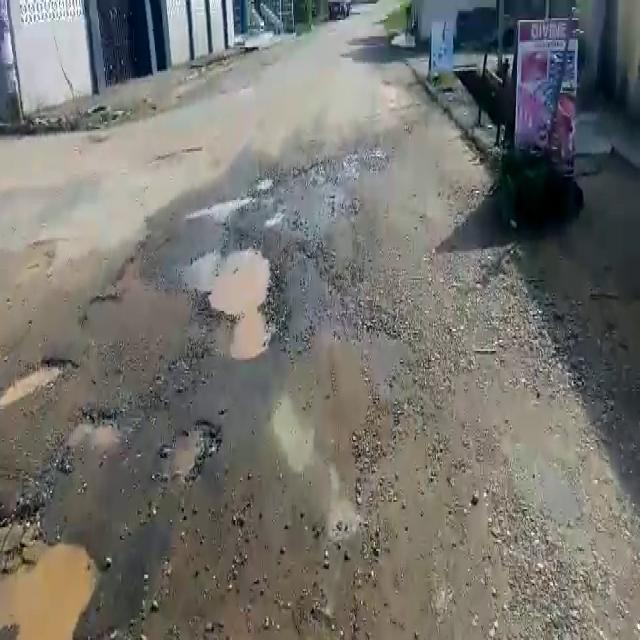Pothole: (177, 243, 283, 353), (0, 533, 113, 636), (158, 418, 218, 486), (3, 357, 81, 406), (188, 194, 252, 223)
